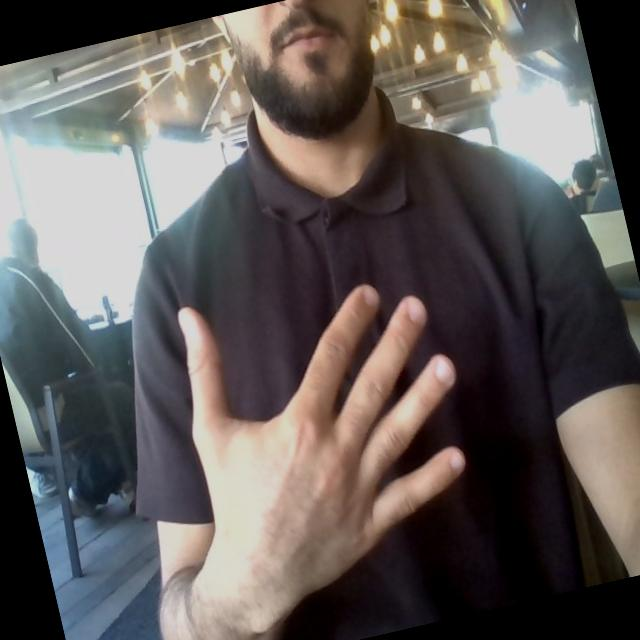Hand: (179, 285, 463, 629)
